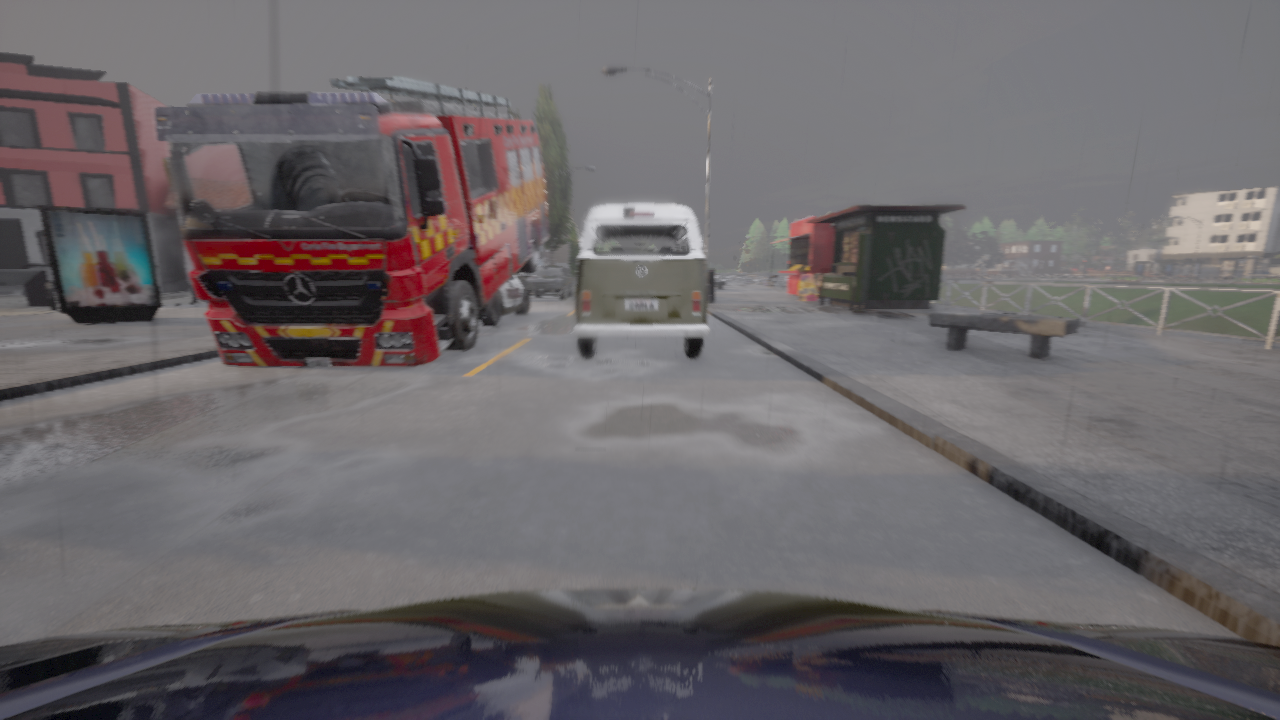cyclist: (0, 588, 1279, 719), (153, 75, 548, 366), (573, 203, 709, 358), (478, 274, 530, 326), (522, 265, 573, 299)
